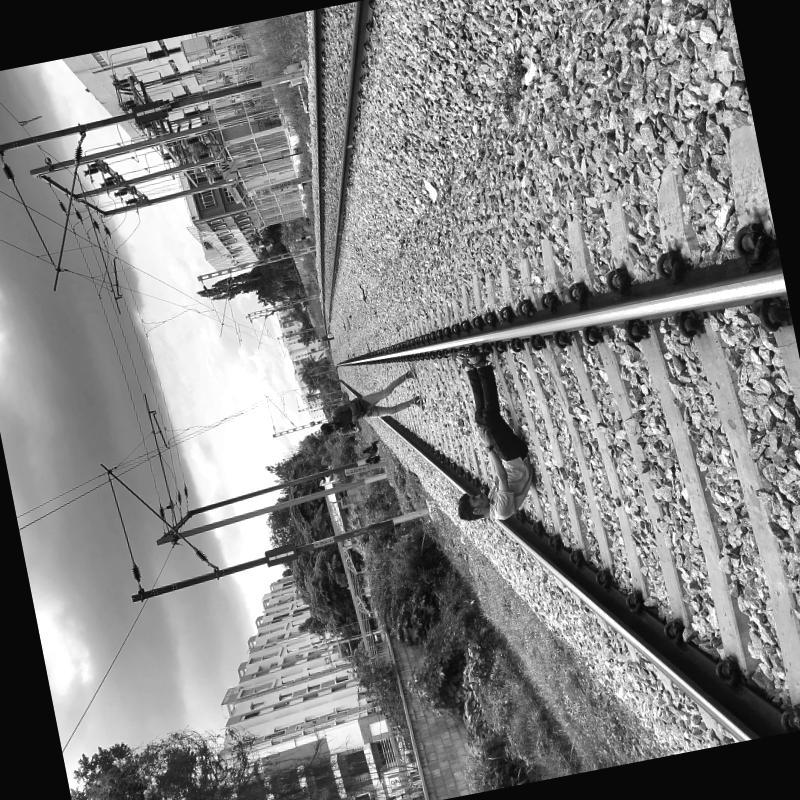sleeping: (423, 325, 558, 556)
